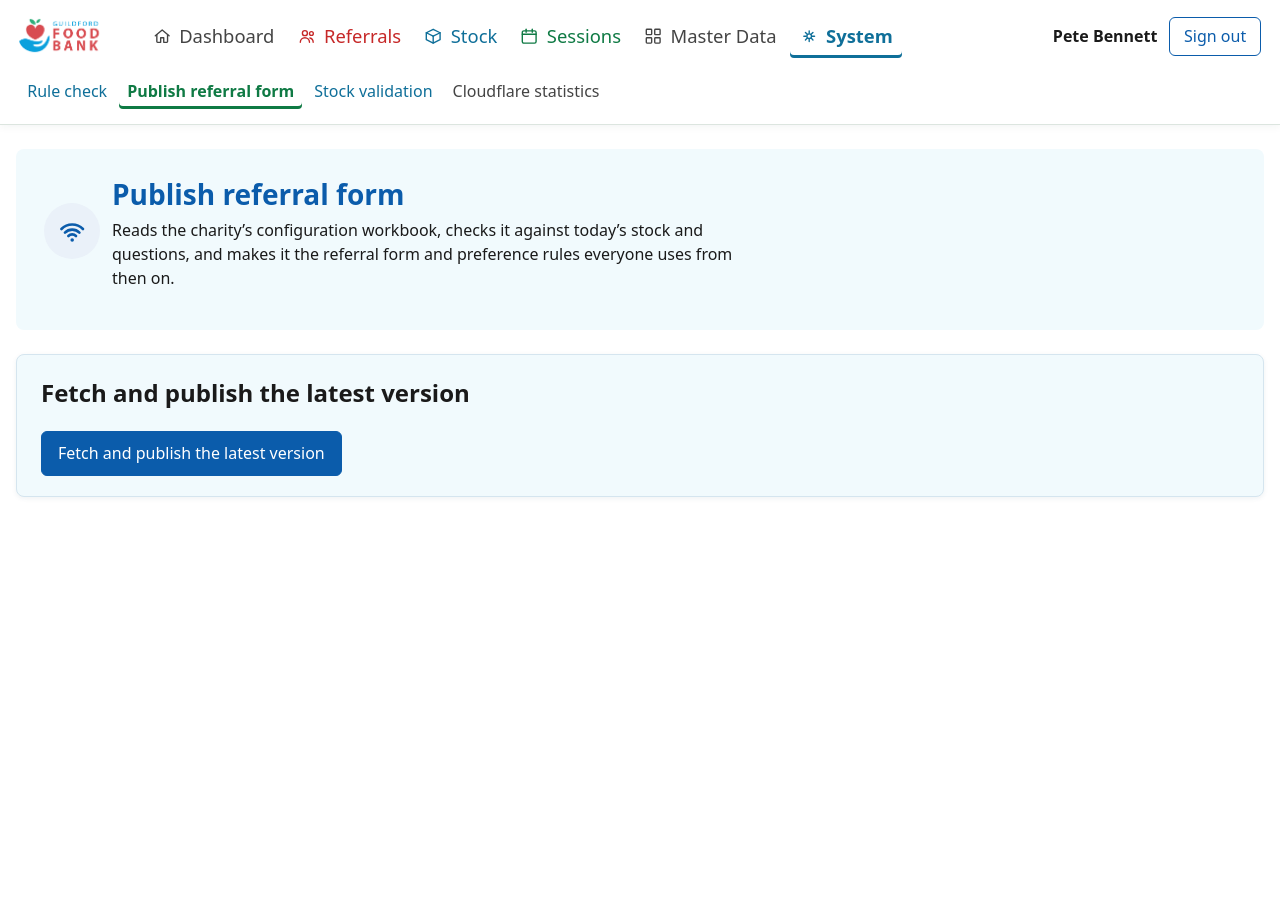
Test: publish referral form › refuses to publish a version whose rules no longer resolve against active stock
The width and height of the screenshot is (1280, 900).
Click the button "Fetch and publish the latest version" at point(191, 453), box [41,431,342,476]
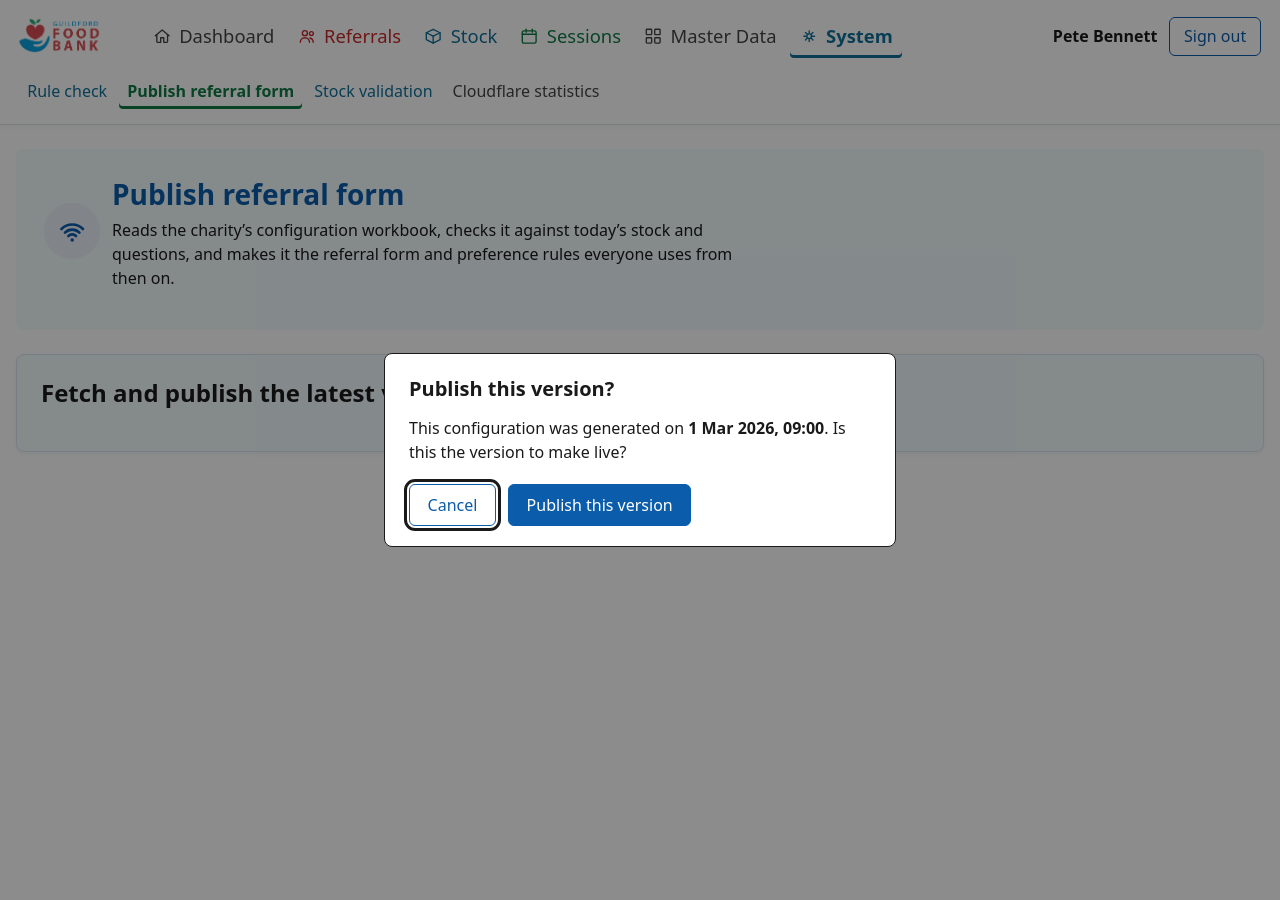
Click the button "Publish this version" at point(600, 505), box [508,484,691,526]
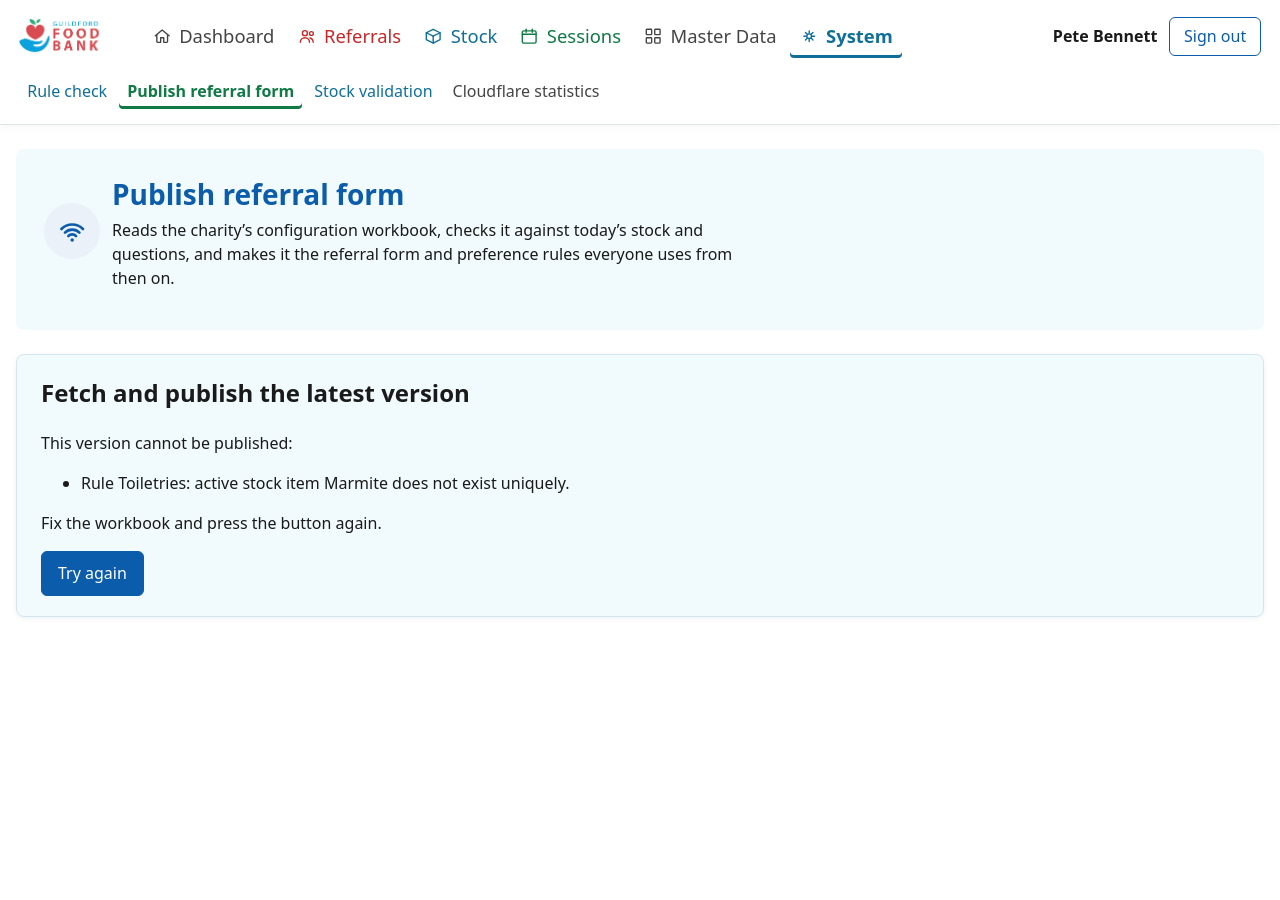
Now the text "This version cannot be published:" is shown, box [41,432,293,454]
Now the list item "Marmite" is shown, box [81,472,570,494]
